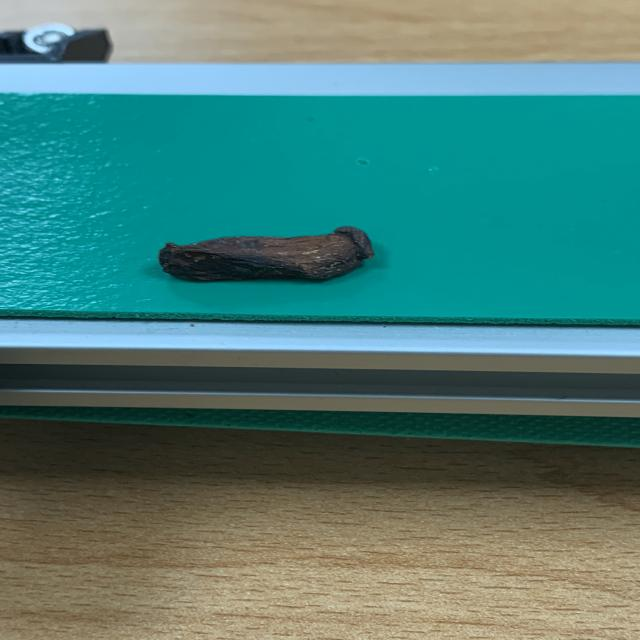Flat_cocoabeans: (126, 204, 440, 309)
